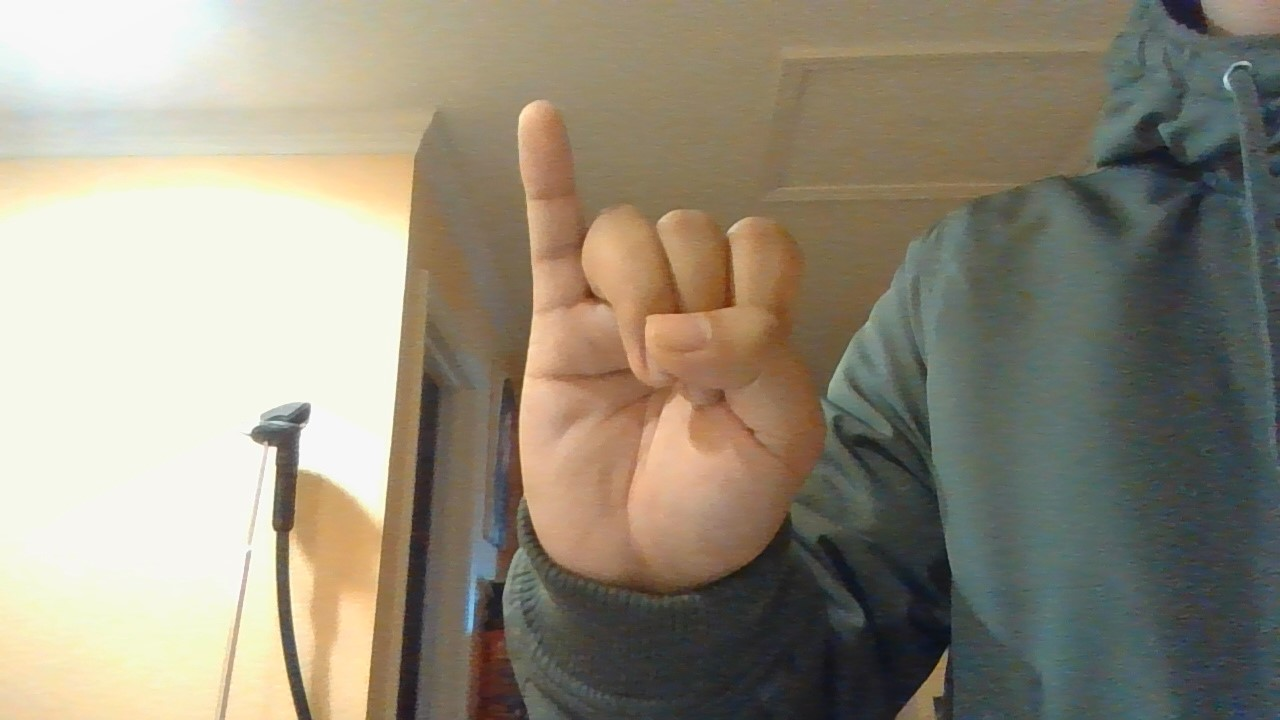i: (482, 84, 844, 657)
